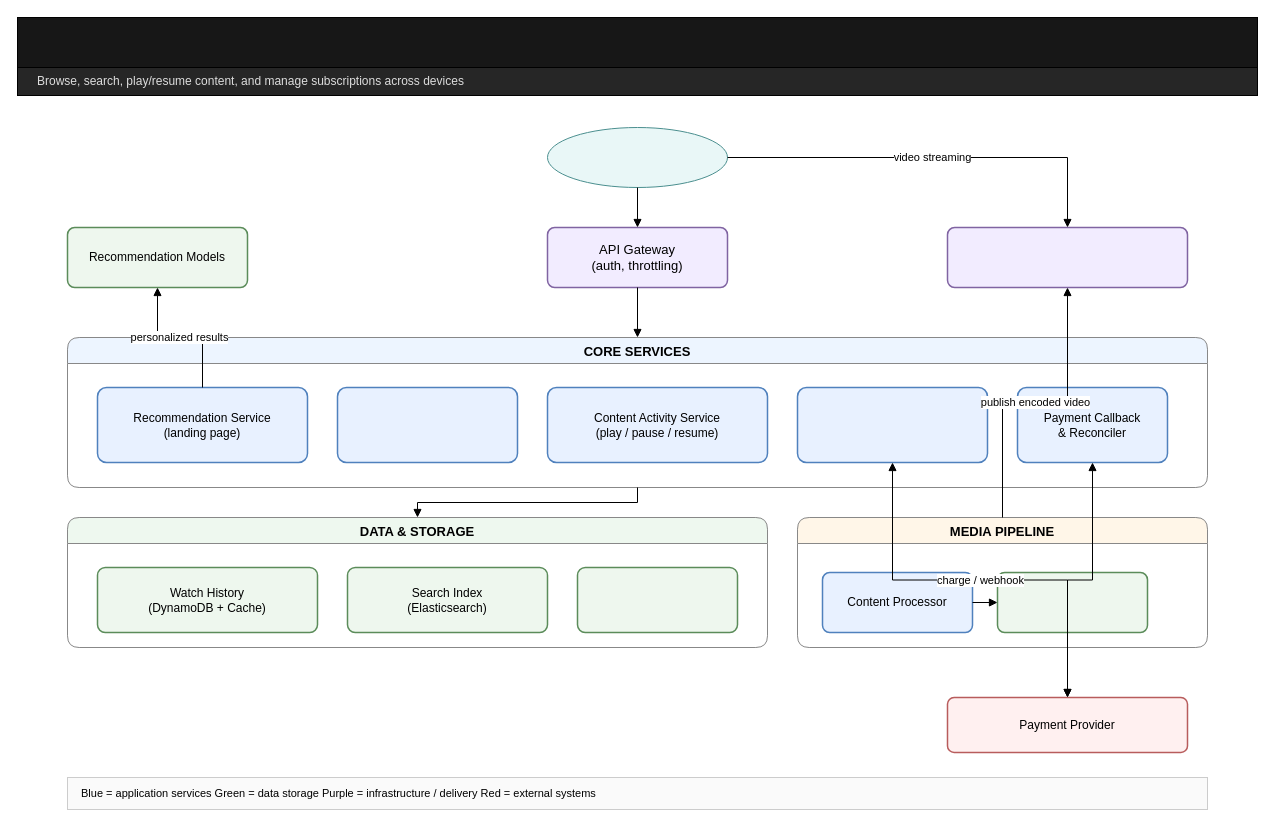
This 1275x827 diagram has some shape labels left out. Here are the shapes that lost their labels. From the top down, the centre of each, then its label:
At (637,42): "NETFLIX — SIMPLIFIED SYSTEM DESIGN".
At (637,157): "Client (Web / Mobile / TV)".
At (1067,257): "Global CDN (video delivery)".
At (427,424): "Search Service".
At (892,424): "Subscription Service".
At (657,599): "Subscriptions & Payments (DynamoDB)".
At (1072,602): "Video Storage (S3)".
